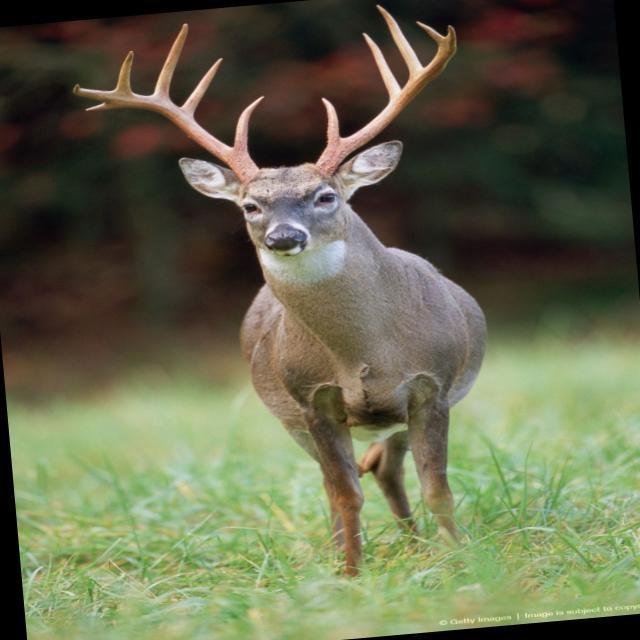E1: (85, 102, 130, 111)
L-F: (313, 23, 457, 179)
L-G1: (321, 97, 346, 150)
L-G2: (360, 32, 401, 101)
L-G3: (375, 4, 425, 79)
L-G4: (415, 20, 446, 48)
R-F: (73, 84, 259, 181)
R-G1: (231, 95, 265, 156)
R-G2: (178, 57, 223, 121)
R-G3: (146, 23, 188, 100)
R-G4: (111, 50, 134, 94)
